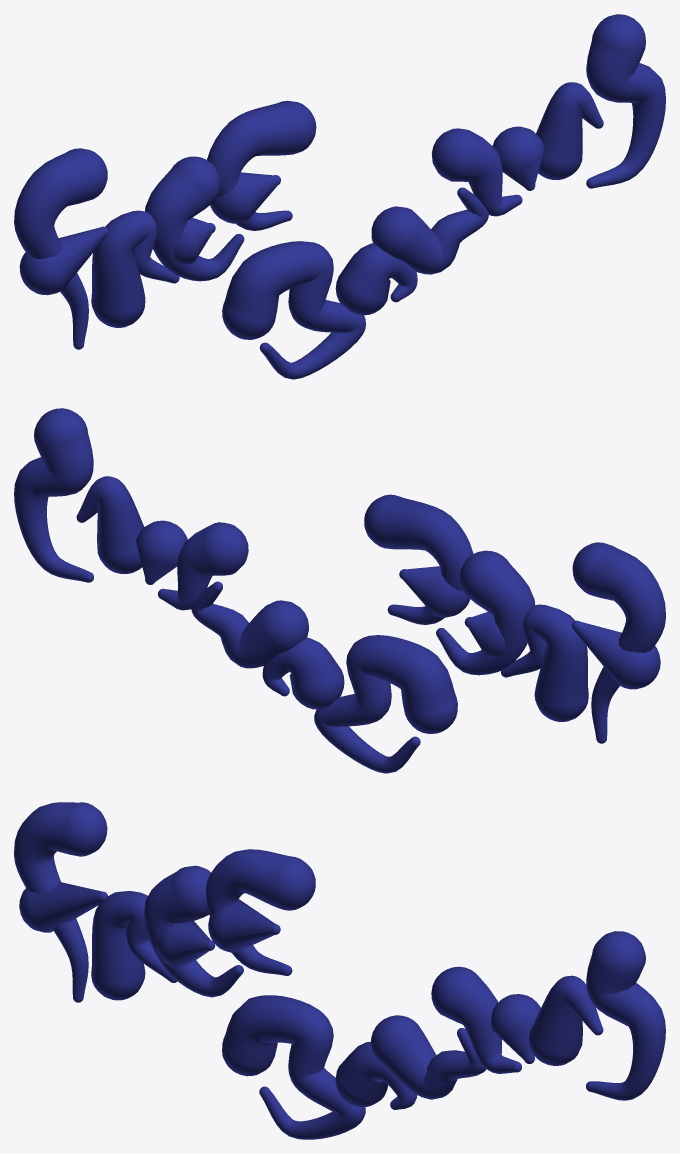
The model's file is free.obj.
3 renders of one model, top to bottom at view 1: azimuth 30°, elevation 25°; view 2: azimuth 150°, elevation 25°; view 3: azimuth 330°, elevation 25°, orthographic.
Visible parts, largest first — view 1: node_id28.007_mesh_id37, node_id28.013_mesh_id45, node_id28_mesh_id29, node_id28.004_mesh_id34, node_id28.005_mesh_id35, node_id28.002_mesh_id32, node_id28.009_mesh_id40, node_id28.010_mesh_id41, node_id28.012_mesh_id44, node_id28.008_mesh_id38, node_id28.001_mesh_id30, node_id28.011_mesh_id43 (+2 smaller); view 2: node_id28.007_mesh_id37, node_id28.013_mesh_id45, node_id28_mesh_id29, node_id28.004_mesh_id34, node_id28.005_mesh_id35, node_id28.002_mesh_id32, node_id28.009_mesh_id40, node_id28.010_mesh_id41, node_id28.012_mesh_id44, node_id28.008_mesh_id38, node_id28.001_mesh_id30, node_id28.011_mesh_id43 (+2 smaller); view 3: node_id28.007_mesh_id37, node_id28.013_mesh_id45, node_id28_mesh_id29, node_id28.005_mesh_id35, node_id28.004_mesh_id34, node_id28.009_mesh_id40, node_id28.002_mesh_id32, node_id28.010_mesh_id41, node_id28.012_mesh_id44, node_id28.008_mesh_id38, node_id28.001_mesh_id30, node_id28.006_mesh_id36 (+2 smaller).
Boxes of the visible parts, <box> form: node_id28.007_mesh_id37: <box>222,241,365,379</box>; node_id28.013_mesh_id45: <box>586,14,665,188</box>; node_id28_mesh_id29: <box>14,148,107,349</box>; node_id28.004_mesh_id34: <box>91,210,179,327</box>; node_id28.005_mesh_id35: <box>207,100,316,230</box>; node_id28.002_mesh_id32: <box>145,156,244,281</box>; node_id28.009_mesh_id40: <box>371,187,488,274</box>; node_id28.010_mesh_id41: <box>431,128,522,216</box>; node_id28.012_mesh_id44: <box>536,82,603,179</box>; node_id28.008_mesh_id38: <box>335,243,417,315</box>; node_id28.001_mesh_id30: <box>19,226,108,295</box>; node_id28.011_mesh_id43: <box>492,126,543,190</box>; node_id28.007_mesh_id37: <box>314,635,457,773</box>; node_id28.013_mesh_id45: <box>14,408,93,582</box>; node_id28_mesh_id29: <box>572,542,665,743</box>; node_id28.004_mesh_id34: <box>501,604,588,721</box>; node_id28.005_mesh_id35: <box>364,494,473,624</box>; node_id28.002_mesh_id32: <box>436,550,535,675</box>; node_id28.009_mesh_id40: <box>191,581,308,668</box>; node_id28.010_mesh_id41: <box>158,522,248,610</box>; node_id28.012_mesh_id44: <box>76,476,144,573</box>; node_id28.008_mesh_id38: <box>262,637,344,709</box>; node_id28.001_mesh_id30: <box>572,620,660,689</box>; node_id28.011_mesh_id43: <box>136,520,187,584</box>; node_id28.007_mesh_id37: <box>222,995,365,1139</box>; node_id28.013_mesh_id45: <box>586,931,665,1100</box>; node_id28_mesh_id29: <box>14,802,107,1002</box>; node_id28.005_mesh_id35: <box>206,849,315,975</box>; node_id28.004_mesh_id34: <box>91,891,177,1000</box>; node_id28.009_mesh_id40: <box>371,1015,486,1099</box>; node_id28.002_mesh_id32: <box>144,865,243,997</box>; node_id28.010_mesh_id41: <box>431,966,521,1073</box>; node_id28.012_mesh_id44: <box>529,975,603,1065</box>; node_id28.008_mesh_id38: <box>335,1041,417,1109</box>; node_id28.001_mesh_id30: <box>19,882,107,932</box>; node_id28.006_mesh_id36: <box>208,899,280,952</box>.
Bounding box in the file's own units: 25.96 × 10.84 × 1.88.
